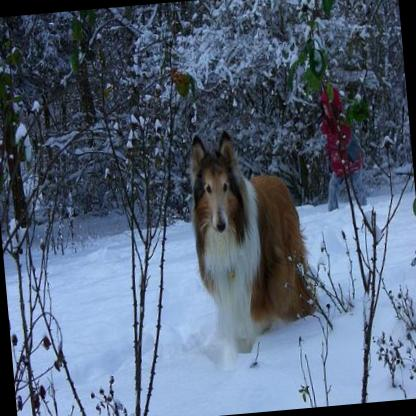collie: (183, 120, 322, 356)
